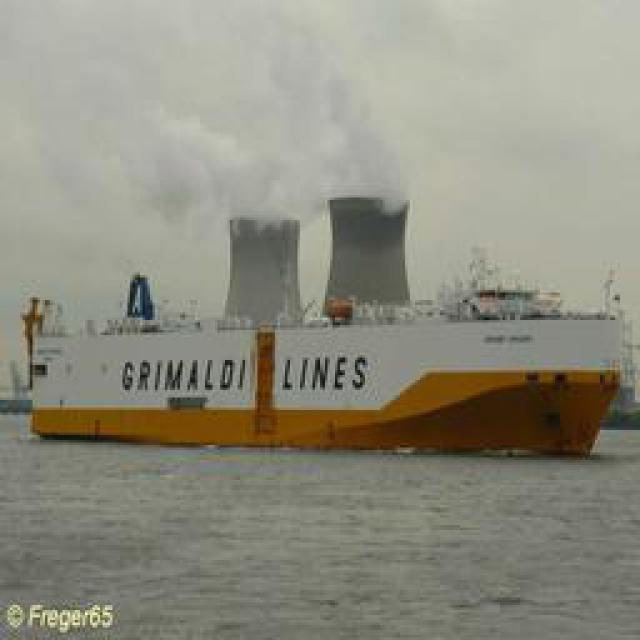Ship: (16, 298, 636, 453)
